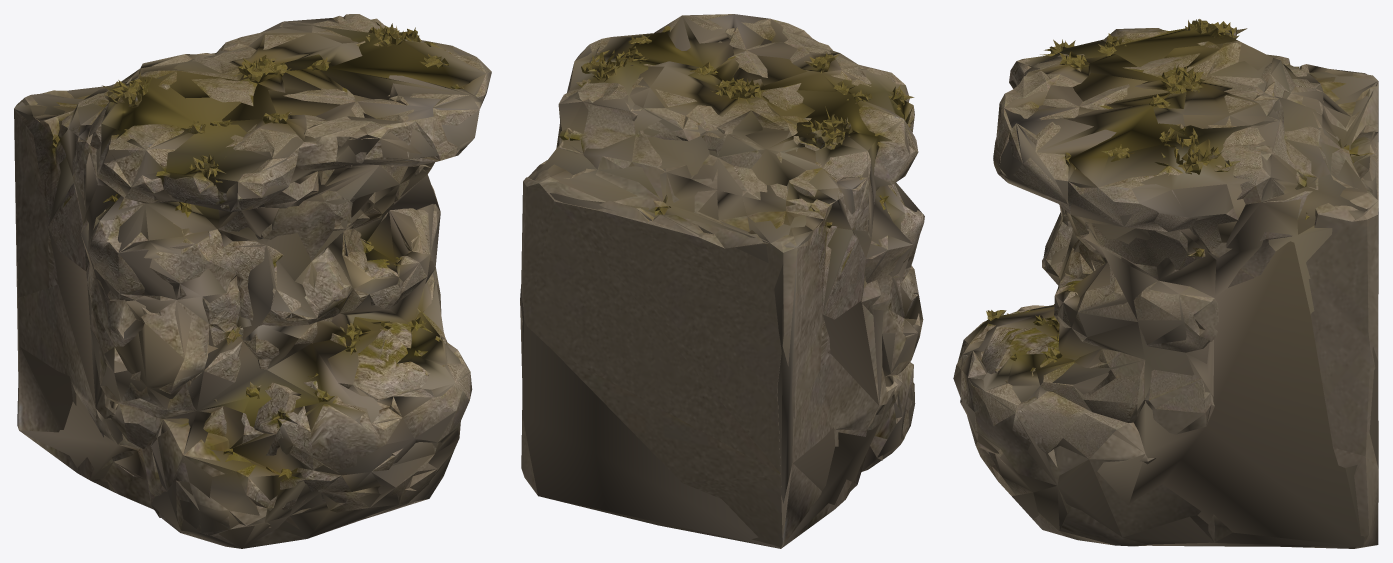
Rendered from pared_saliente.glb.
3 renders of one model, left to right at view 1: azimuth 30°, elevation 25°; view 2: azimuth 150°, elevation 25°; view 3: azimuth 270°, elevation 25°, orthographic. The views are drawn at different scales.
Parts seen in each view (by area): view 1: cerca, medio, lejos; view 2: cerca, medio, lejos; view 3: cerca, lejos, medio.
Part boxes in pixels (<box>): cerca: <box>14,14,491,548</box>; medio: <box>14,18,485,548</box>; lejos: <box>14,21,485,548</box>; cerca: <box>520,14,924,548</box>; medio: <box>522,14,923,548</box>; lejos: <box>532,14,922,548</box>; cerca: <box>953,19,1378,548</box>; lejos: <box>963,28,1377,546</box>; medio: <box>953,23,1378,546</box>.
Size of the model in its own units: 2.84 by 2.98 by 2.75.
Materials: 2 (1 with a texture image).
